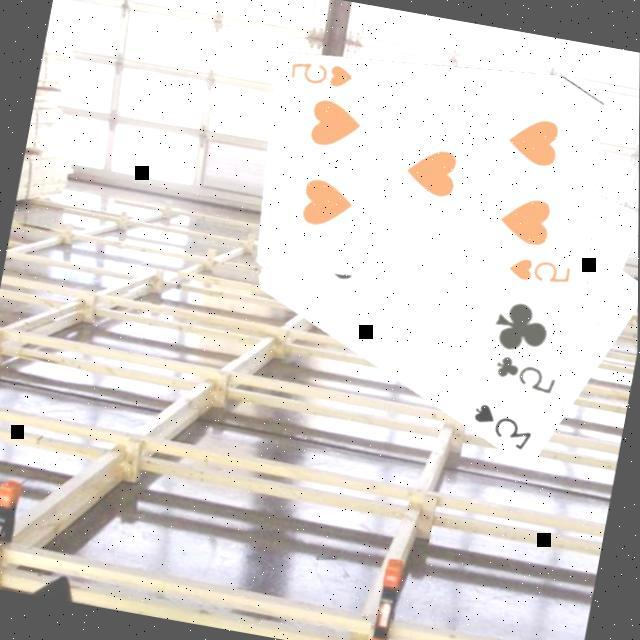3S: (466, 396, 540, 454)
5C: (490, 348, 564, 398)
5H: (287, 51, 360, 93), (505, 249, 577, 290)
